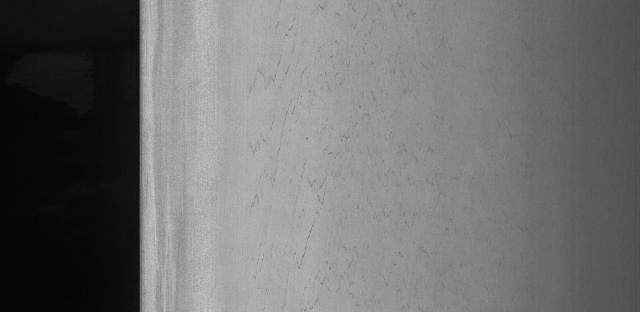silk_spot: (245, 20, 472, 288)
